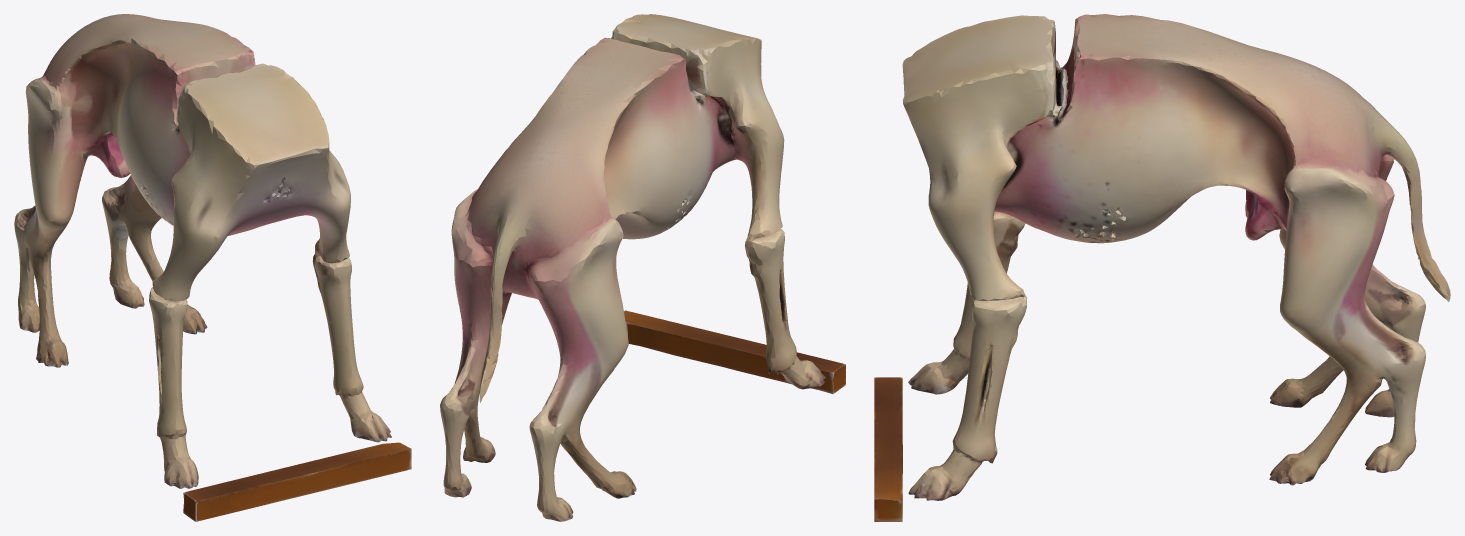
The model's file is hip_dysplasia.glb.
The picture shows the model from 3 angles, left to right: view 1: azimuth 30°, elevation 25°; view 2: azimuth 150°, elevation 25°; view 3: azimuth 270°, elevation 25°; orthographic projection. The views are drawn at different scales.
Visible parts, largest first — view 1: model; view 2: model; view 3: model.
Boxes of the visible parts, x1,y1,x2,y2 form: model: (14,14,411,521); model: (440,14,845,521); model: (874,14,1450,521).
Bounding box in the file's own units: 0.972 × 1.55 × 1.9.
Materials: 1 (1 with a texture image).
